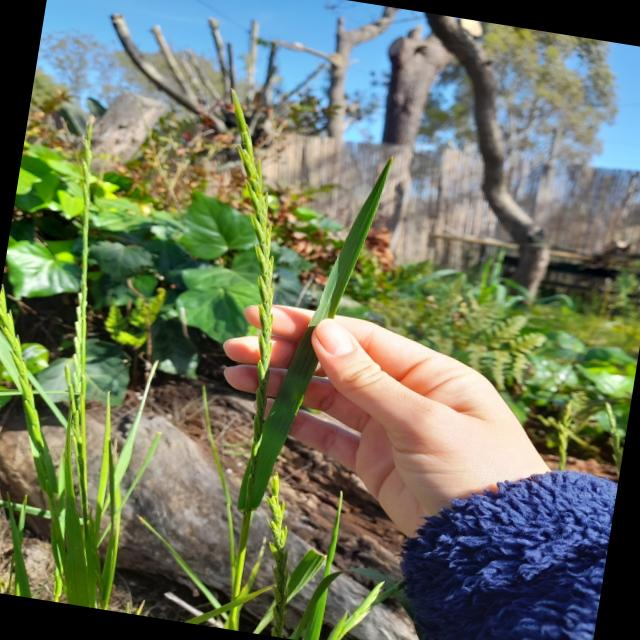Lolium: (146, 95, 368, 638), (1, 120, 180, 607)
